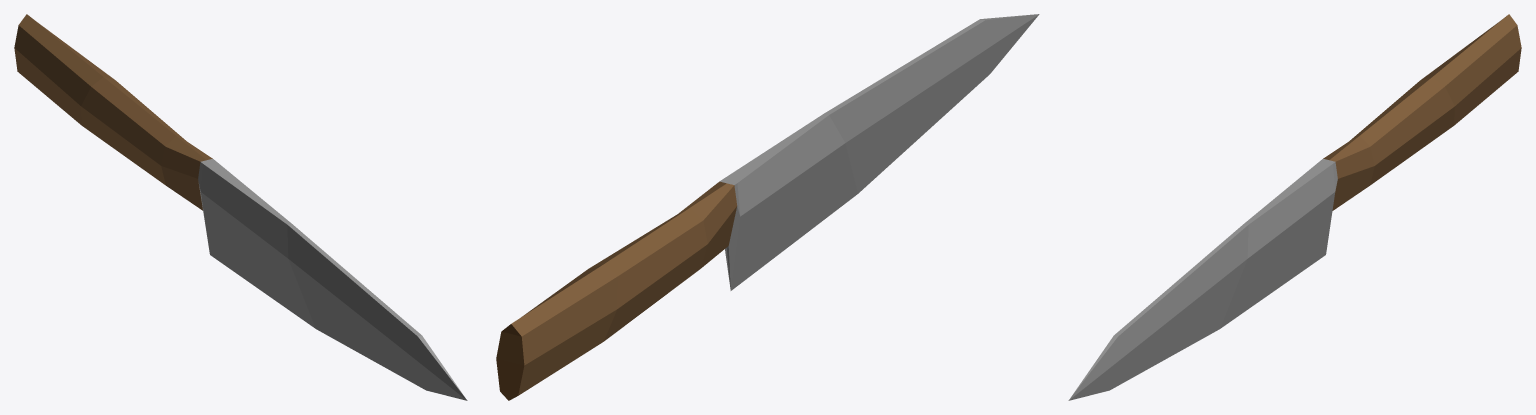
Rendered from knife_2.fbx.
3 views of the same model, side by side, from view 1: azimuth 30°, elevation 25°; view 2: azimuth 150°, elevation 25°; view 3: azimuth 330°, elevation 25° (orthographic). The views are drawn at different scales.
Parts seen in each view (by area): view 1: knife_2; view 2: knife_2; view 3: knife_2.
Boxes of the visible parts, <box> form: knife_2: <box>14,14,467,400</box>; knife_2: <box>496,14,1039,400</box>; knife_2: <box>1068,14,1521,400</box>.
Bounding box in the file's own units: 2.76 × 8.24 × 61.86.
Materials: 1 (1 with a texture image).
